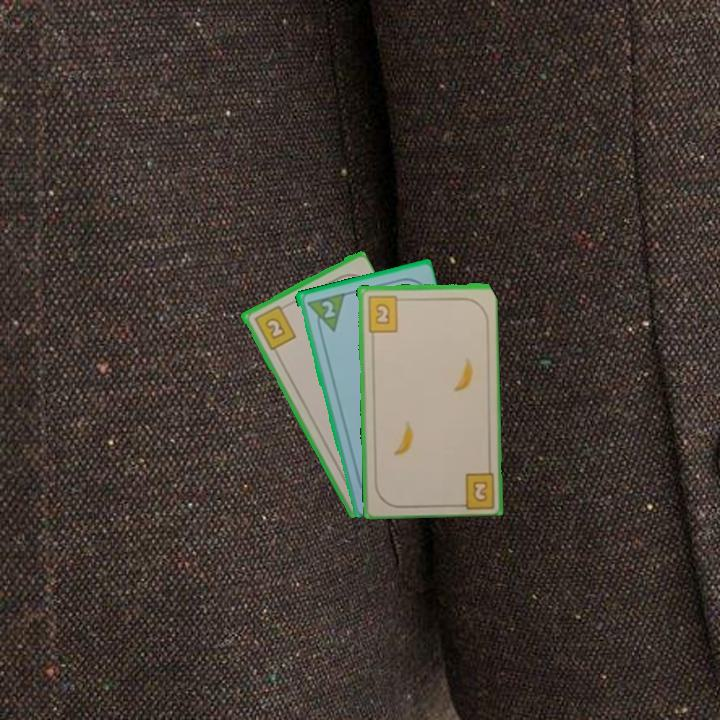2b: (250, 301, 298, 353), (364, 292, 406, 334), (469, 477, 490, 505)
2p: (303, 289, 346, 337)
